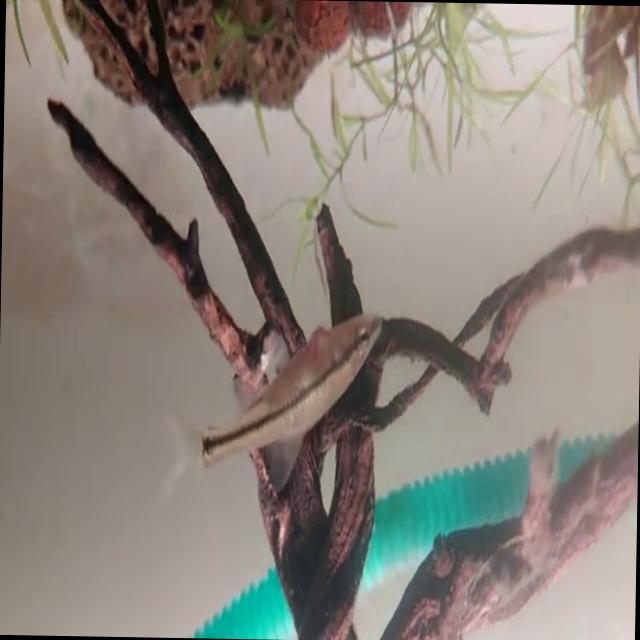Cakil Baligi: (198, 307, 384, 474)
